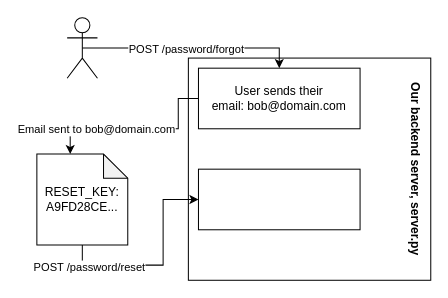
This 448x298 diagram has some shape labels left out. Each missing label, with the centre of its shape:
"User sends reset_key: A9FD28CE... new_password: c00lpasswd" goes at point (278, 199).
"User that forgot their password" goes at point (81, 47).
